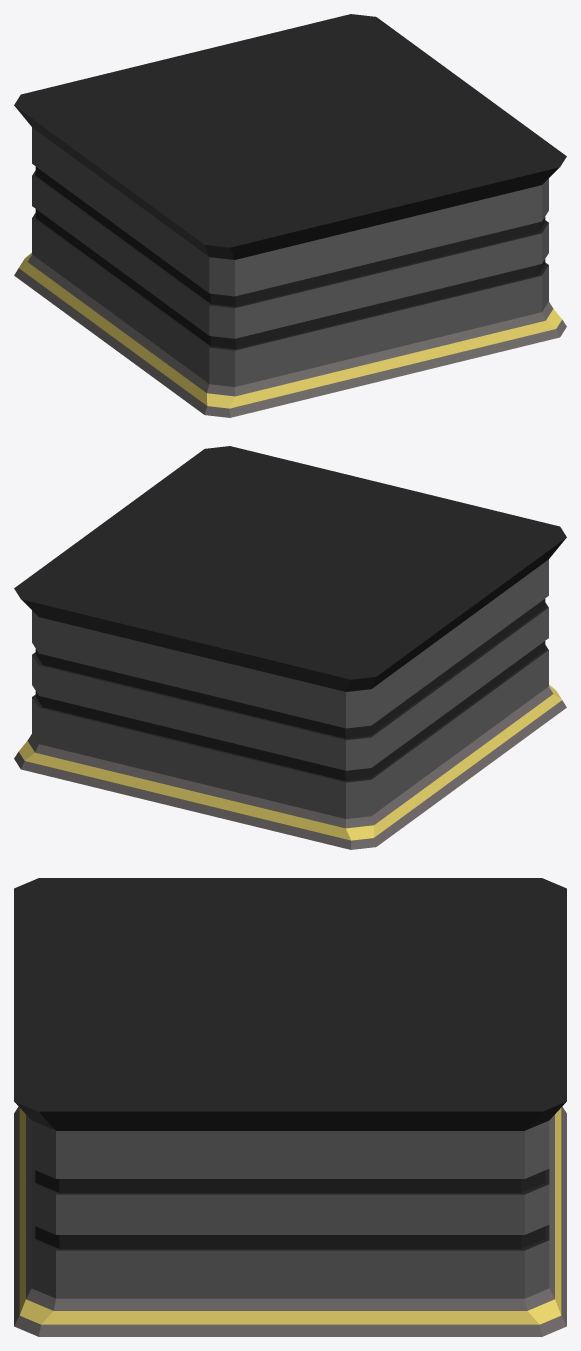
Rendered from 3x3Pillar.fbx.
3 views of the same model, one above another, from view 1: azimuth 30°, elevation 25°; view 2: azimuth 150°, elevation 25°; view 3: azimuth 270°, elevation 25° (orthographic). The views are drawn at different scales.
Parts seen in each view (by area): view 1: 3x3Pillar; view 2: 3x3Pillar; view 3: 3x3Pillar.
Boxes of the visible parts, x1,y1,x2,y2 form: 3x3Pillar: (14, 14, 566, 417); 3x3Pillar: (14, 446, 566, 849); 3x3Pillar: (14, 878, 566, 1336).
Size of the model in its own units: 600 by 269 by 600.
